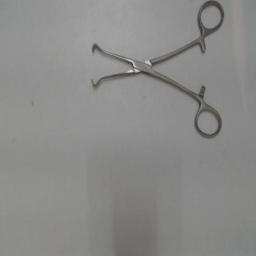Babcock Tissue Forceps: (88, 1, 226, 141)
